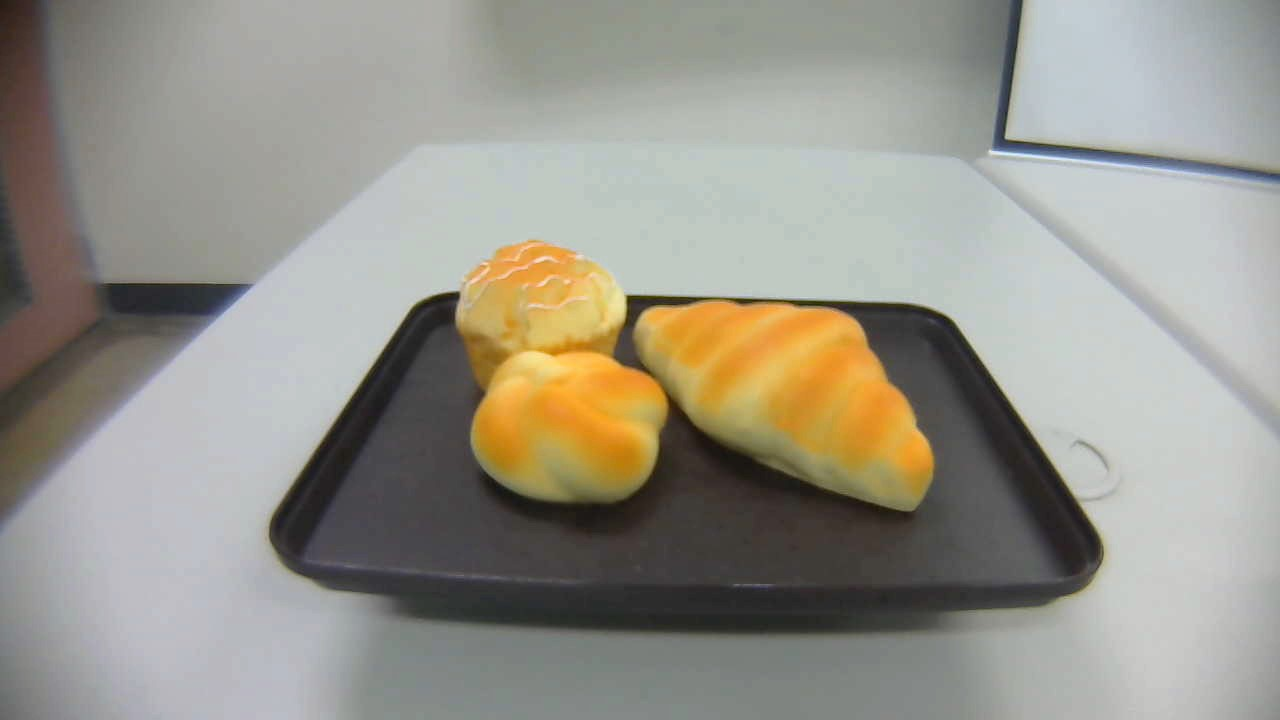croissant: (630, 300, 934, 514)
cupcake: (455, 241, 627, 397)
twist bread: (469, 352, 668, 506)
